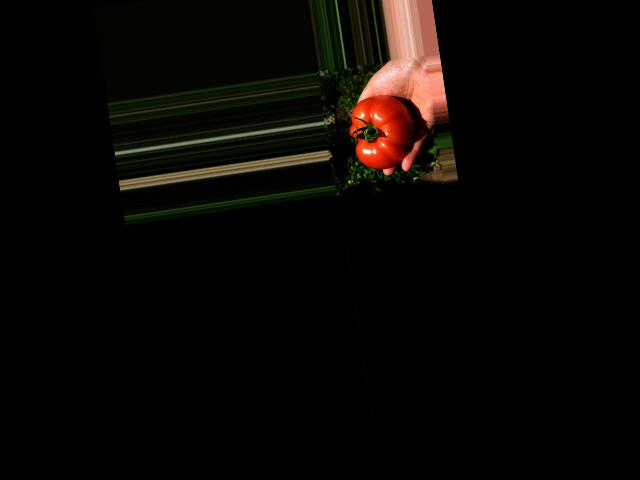tomato: (345, 92, 419, 173)
